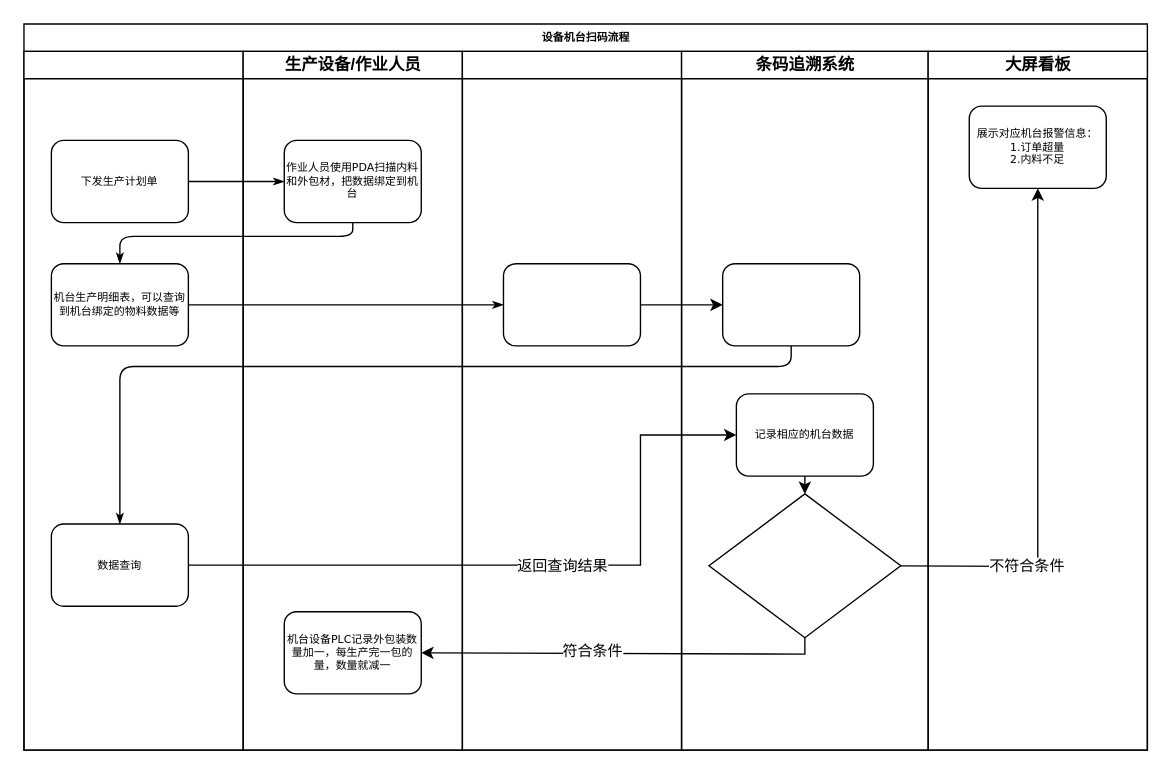
This 1171x774 diagram has some shape labels left out. Each missing label, with the box of its shape:
1.判断订单生产数量 2.判断机台和内料生产数量: (708, 493, 901, 638)
1.根据条码去ERP查询生产计划单 2.根据条码信息去查询ERP机台生产明细表: (721, 262, 860, 346)
ERP: (23, 50, 243, 750)
作业人员扫描外包装条码: (502, 262, 640, 346)
扫码头: (461, 50, 682, 750)
